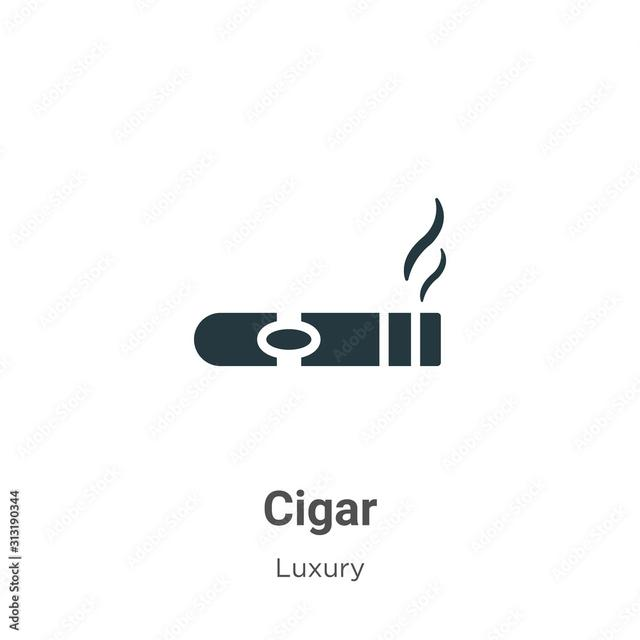Cigar: (192, 310, 442, 368)
